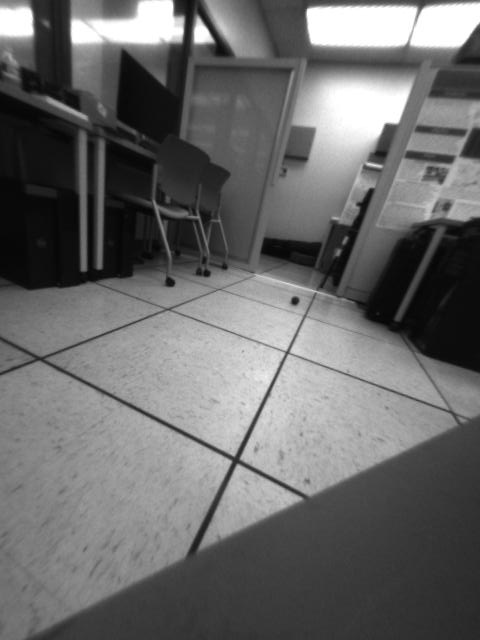dogtoy: (288, 288, 306, 308)
